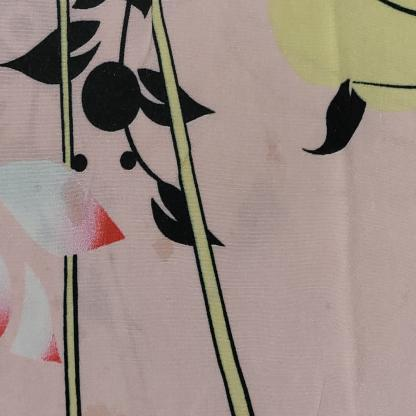spot: (54, 174, 101, 232), (264, 118, 293, 170), (146, 228, 183, 268), (78, 391, 118, 416), (46, 289, 66, 315), (322, 294, 343, 318)
